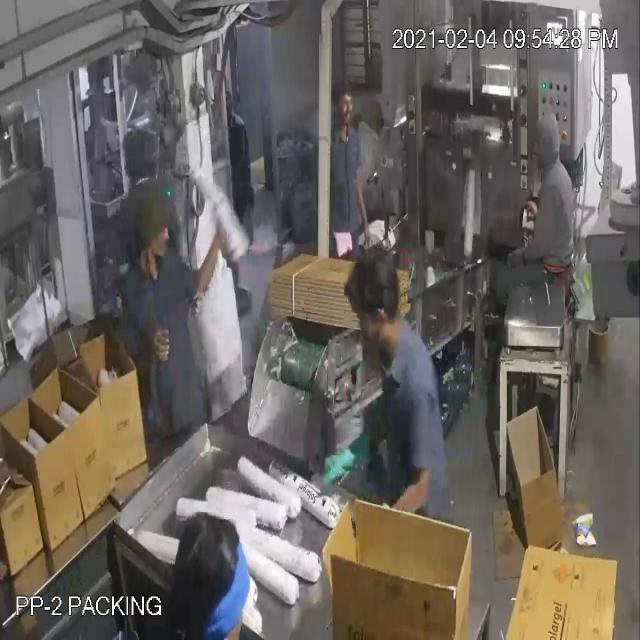No_Gloves: (24, 72, 364, 457)
